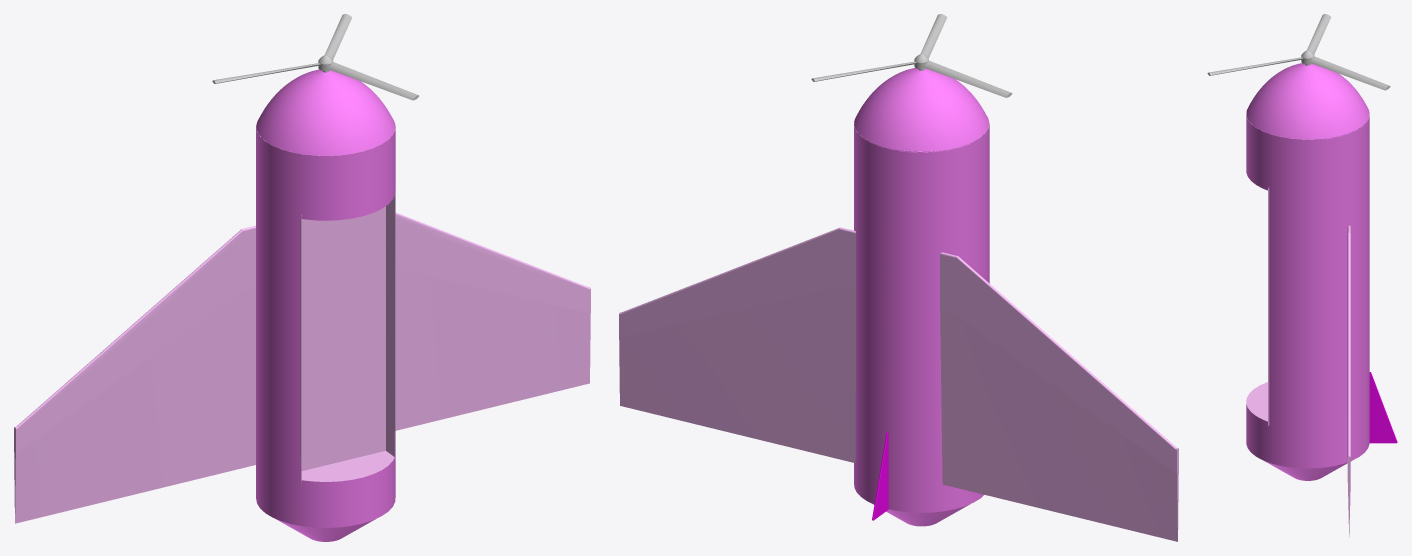
File: assem for jatin.obj
3 renders of one model, left to right at view 1: azimuth 30°, elevation 25°; view 2: azimuth 150°, elevation 25°; view 3: azimuth 270°, elevation 25°, orthographic. The views are drawn at different scales.
Parts seen in each view (by area): view 1: mesh 2 Boss-Extrude2[3], mesh 3 Cut-Extrude20 face, mesh 6 Boss-Extrude4[3]; view 2: mesh 2 Boss-Extrude2[3], mesh 3 Cut-Extrude20 face, mesh 6 Boss-Extrude4[3], mesh 5 Boss-Extrude2[2]; view 3: mesh 3 Cut-Extrude20 face, mesh 2 Boss-Extrude2[3], mesh 6 Boss-Extrude4[3], mesh 5 Boss-Extrude2[2].
Part boxes in pixels (x1,y1,x2,y2): mesh 2 Boss-Extrude2[3]: [14, 119, 590, 523]; mesh 3 Cut-Extrude20 face: [256, 69, 395, 541]; mesh 6 Boss-Extrude4[3]: [212, 14, 419, 100]; mesh 2 Boss-Extrude2[3]: [619, 115, 1178, 541]; mesh 3 Cut-Extrude20 face: [854, 68, 989, 526]; mesh 6 Boss-Extrude4[3]: [811, 14, 1012, 97]; mesh 5 Boss-Extrude2[2]: [872, 432, 888, 520]; mesh 3 Cut-Extrude20 face: [1246, 63, 1369, 480]; mesh 2 Boss-Extrude2[3]: [1246, 106, 1369, 536]; mesh 6 Boss-Extrude4[3]: [1207, 14, 1390, 90]; mesh 5 Boss-Extrude2[2]: [1369, 372, 1397, 443].
Bounding box in the file's own units: 0.76 × 0.6046 × 0.2461.
